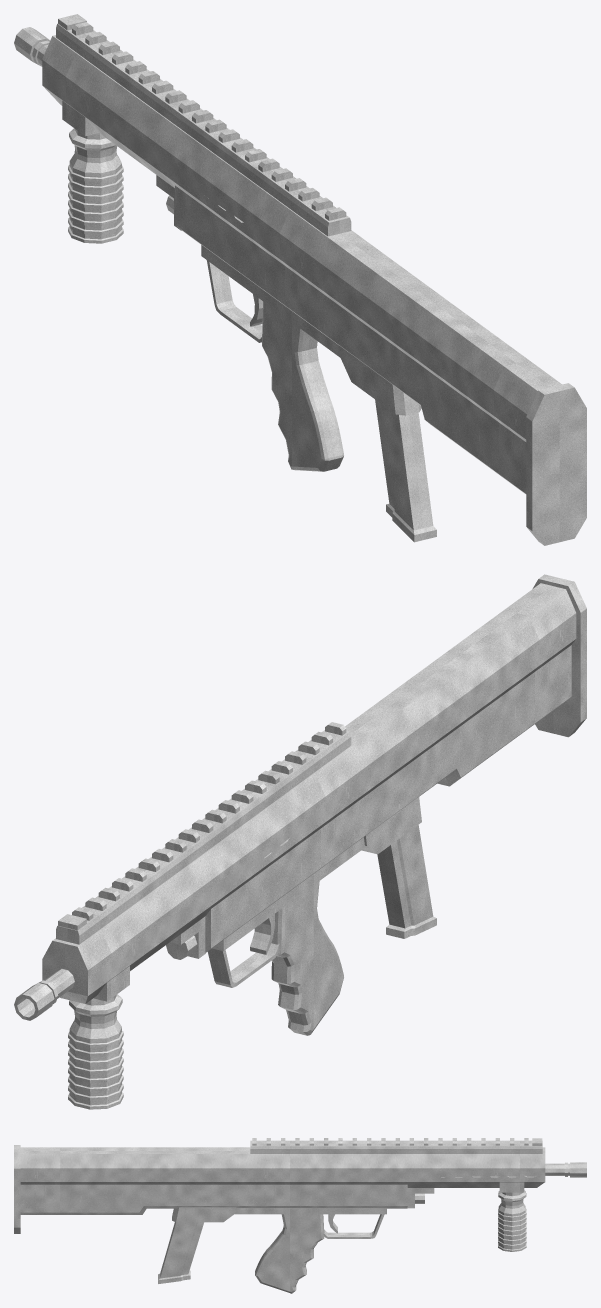
The model's file is smg.obj.
3 renders of one model, top to bottom at view 1: azimuth 30°, elevation 25°; view 2: azimuth 150°, elevation 25°; view 3: azimuth 270°, elevation 25°, orthographic. The views are drawn at different scales.
Visible parts, largest first — view 1: Bullpup_1_Cylinder.051; view 2: Bullpup_1_Cylinder.051; view 3: Bullpup_1_Cylinder.051.
Part boxes in pixels (box(x1,y1,x2,y2)): Bullpup_1_Cylinder.051: box(14, 14, 586, 545); Bullpup_1_Cylinder.051: box(14, 574, 586, 1109); Bullpup_1_Cylinder.051: box(14, 1138, 586, 1293).
Bounding box in the file's own units: 0.059 × 0.2928 × 0.9971.
3 materials, 3 textured.
